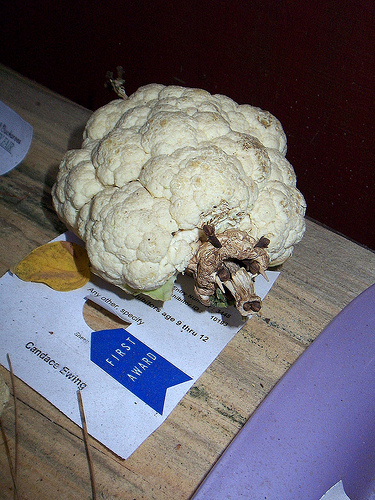cauliflower: (50, 82, 307, 316)
